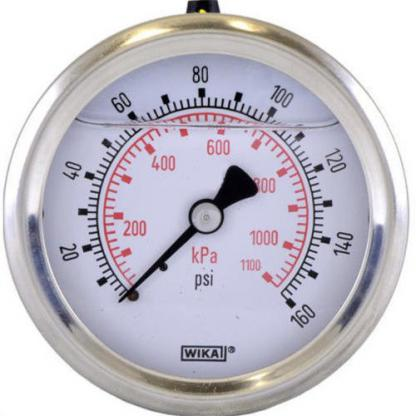needle: (117, 225, 198, 304)
